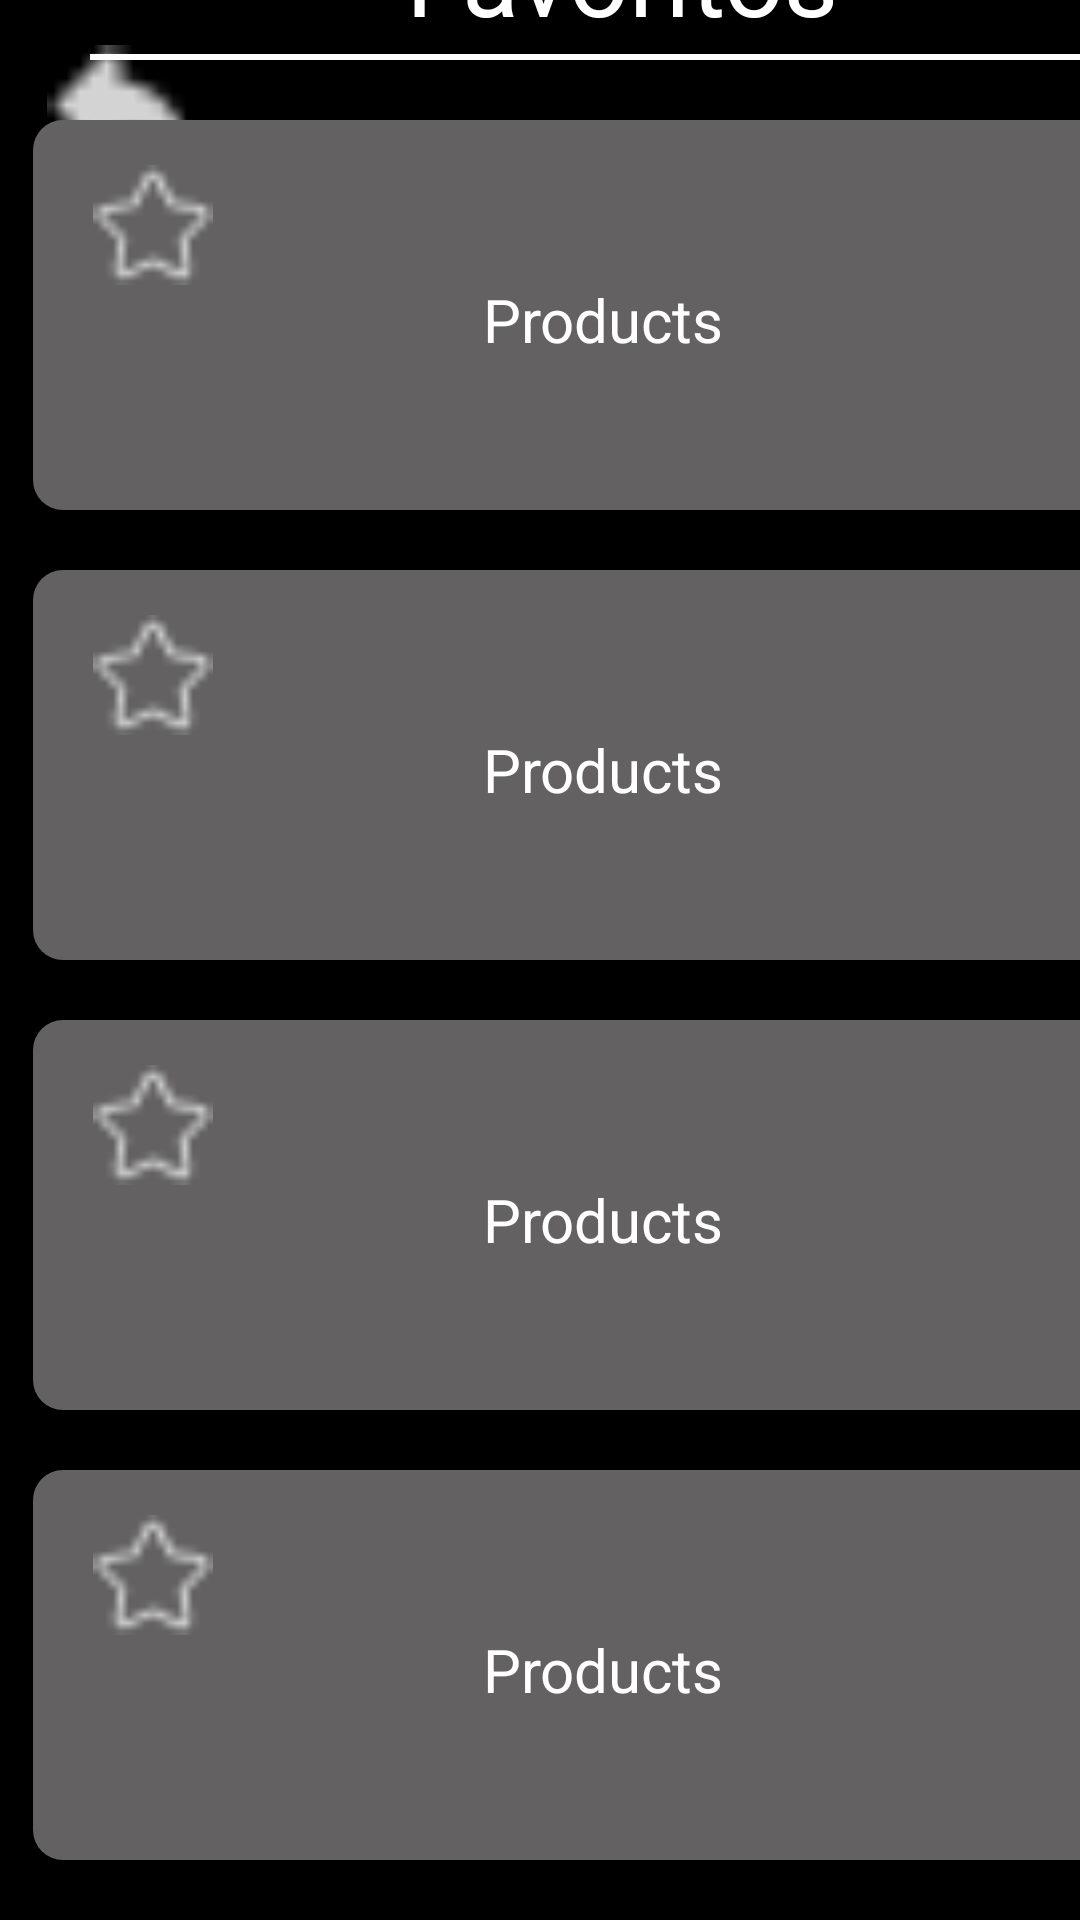

Named icons in this screenshot (1080×1920) and their centers, [x,y]:
estrella: [153,225], [153,675], [153,1125], [153,1575]
